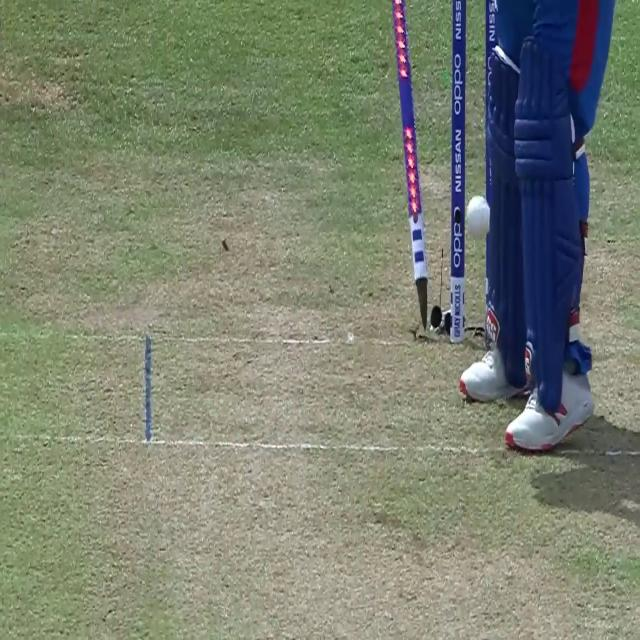ball: (467, 197, 491, 239)
